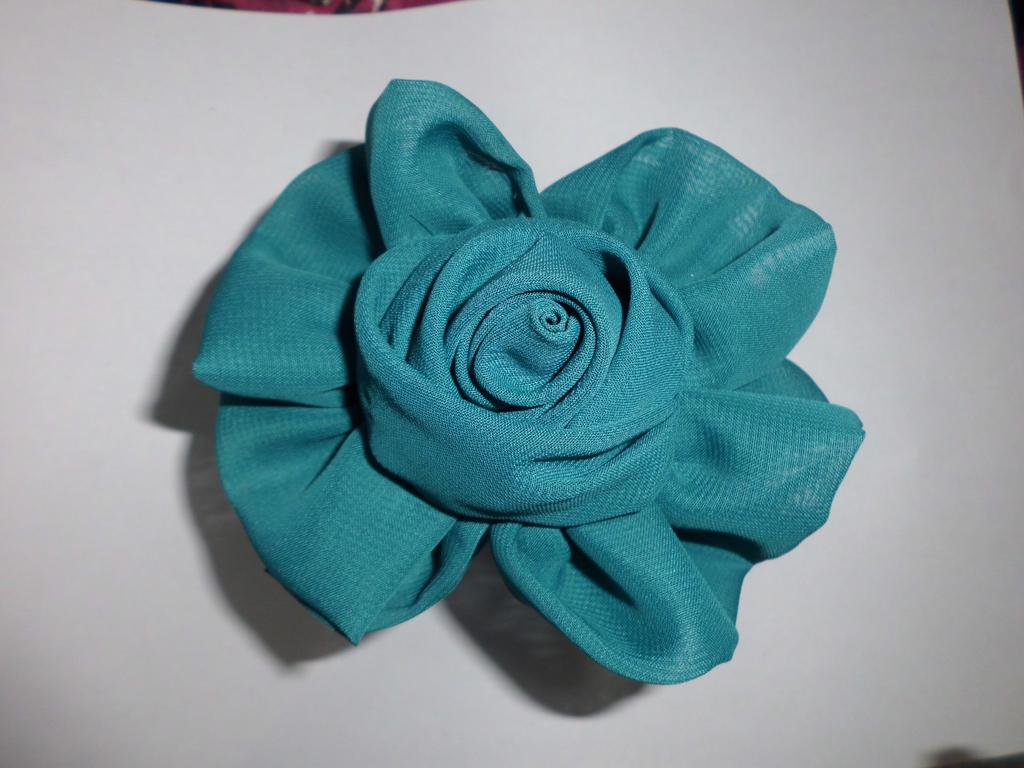flexible: (184, 77, 871, 687)
